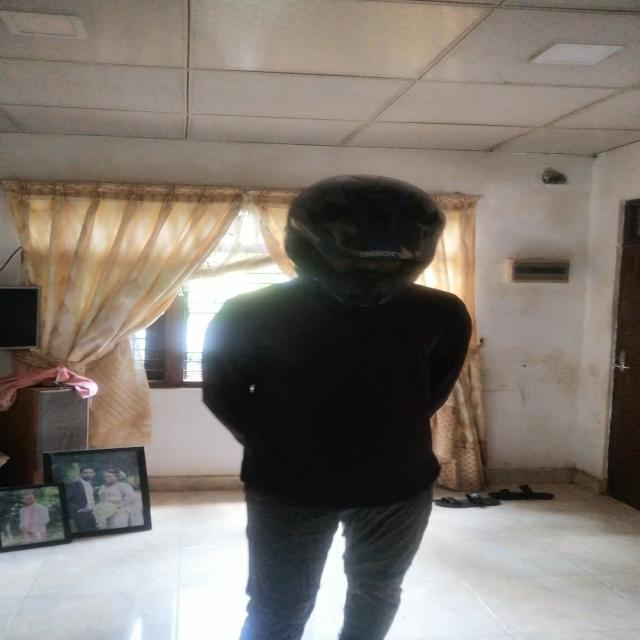Helmet_Wearer: (271, 178, 443, 310)
Person: (204, 165, 480, 640)
